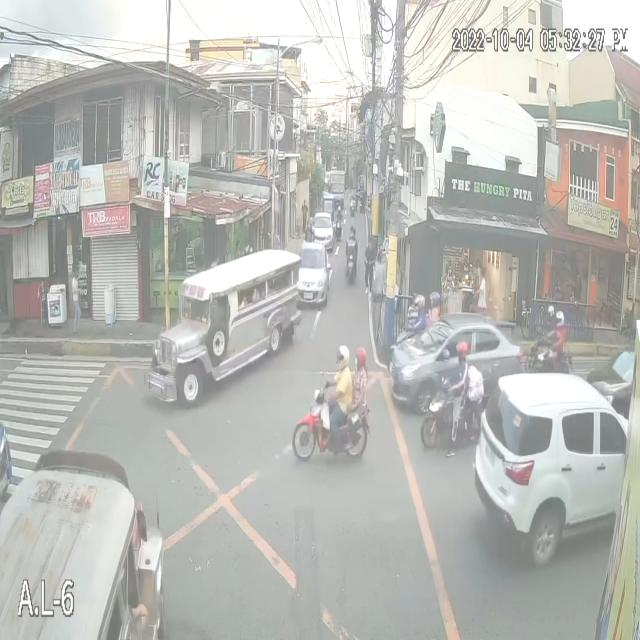Full-Faced: (451, 336, 472, 370), (351, 338, 371, 372), (332, 344, 351, 369), (412, 290, 426, 318), (424, 289, 441, 312), (549, 311, 566, 334), (333, 201, 345, 221), (348, 222, 357, 244)
